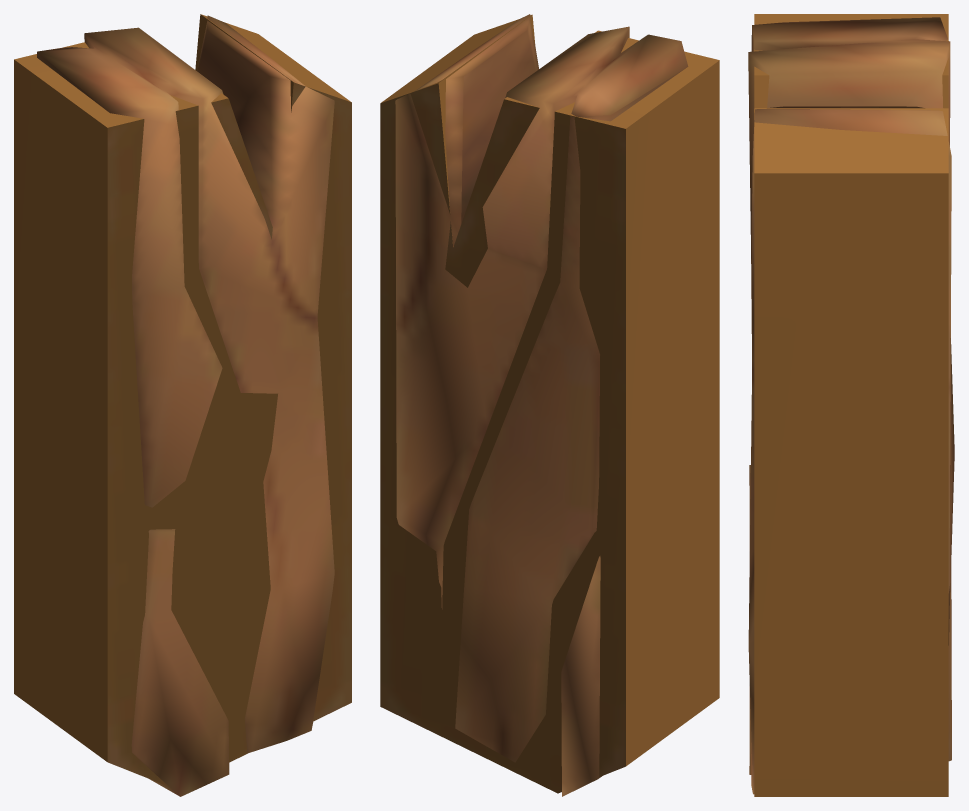
The model's file is Visuals.fbx.
3 views of the same model, side by side, from view 1: azimuth 30°, elevation 25°; view 2: azimuth 150°, elevation 25°; view 3: azimuth 270°, elevation 25° (orthographic). The views are drawn at different scales.
Visible parts, largest first — view 1: VisualAnchor, WoodenCratePiece01; view 2: VisualAnchor, WoodenCratePiece01; view 3: VisualAnchor, WoodenCratePiece01.
Part boxes in pixels (bbox=[...]): VisualAnchor: bbox=[14, 14, 351, 786]; WoodenCratePiece01: bbox=[37, 15, 334, 796]; VisualAnchor: bbox=[380, 14, 719, 793]; WoodenCratePiece01: bbox=[395, 14, 688, 796]; VisualAnchor: bbox=[754, 14, 948, 796]; WoodenCratePiece01: bbox=[748, 17, 954, 794].
Bounding box in the file's own units: 0.4026 × 1.09 × 0.2836.
